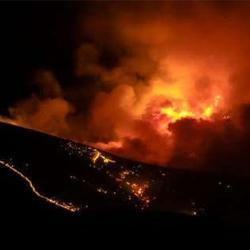fire: (151, 85, 185, 94), (161, 107, 182, 119), (196, 104, 215, 116)
